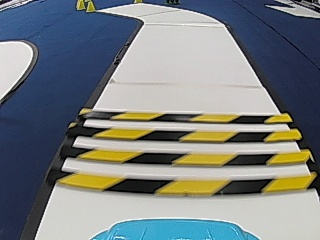bump: (88, 111, 278, 194)
